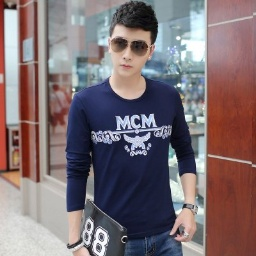face: (108, 1, 158, 77)
